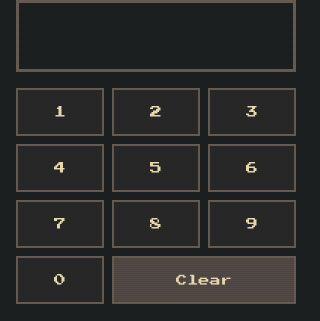
Scenario: Numpad › clears last digit on clear click
The width and height of the screenshot is (320, 321).
Click the button with test id "digit-1".
click(60, 112)  # box [16,88,104,136]
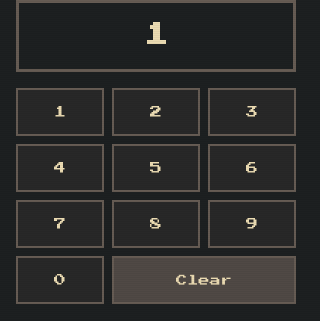
Click the button with test id "digit-2".
click(156, 112)  # box [112,88,200,136]
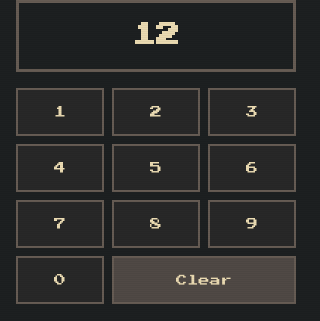
Click the button with test id "clear-btn".
click(204, 280)  # box [112,256,296,304]
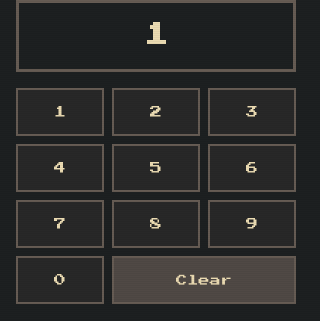
expect the text with test id "display" reads "1": met, box [144,23,168,47]
